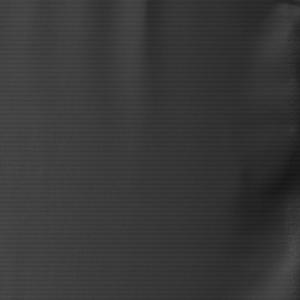Wrinkle: (20, 1, 176, 175), (221, 1, 300, 300)
